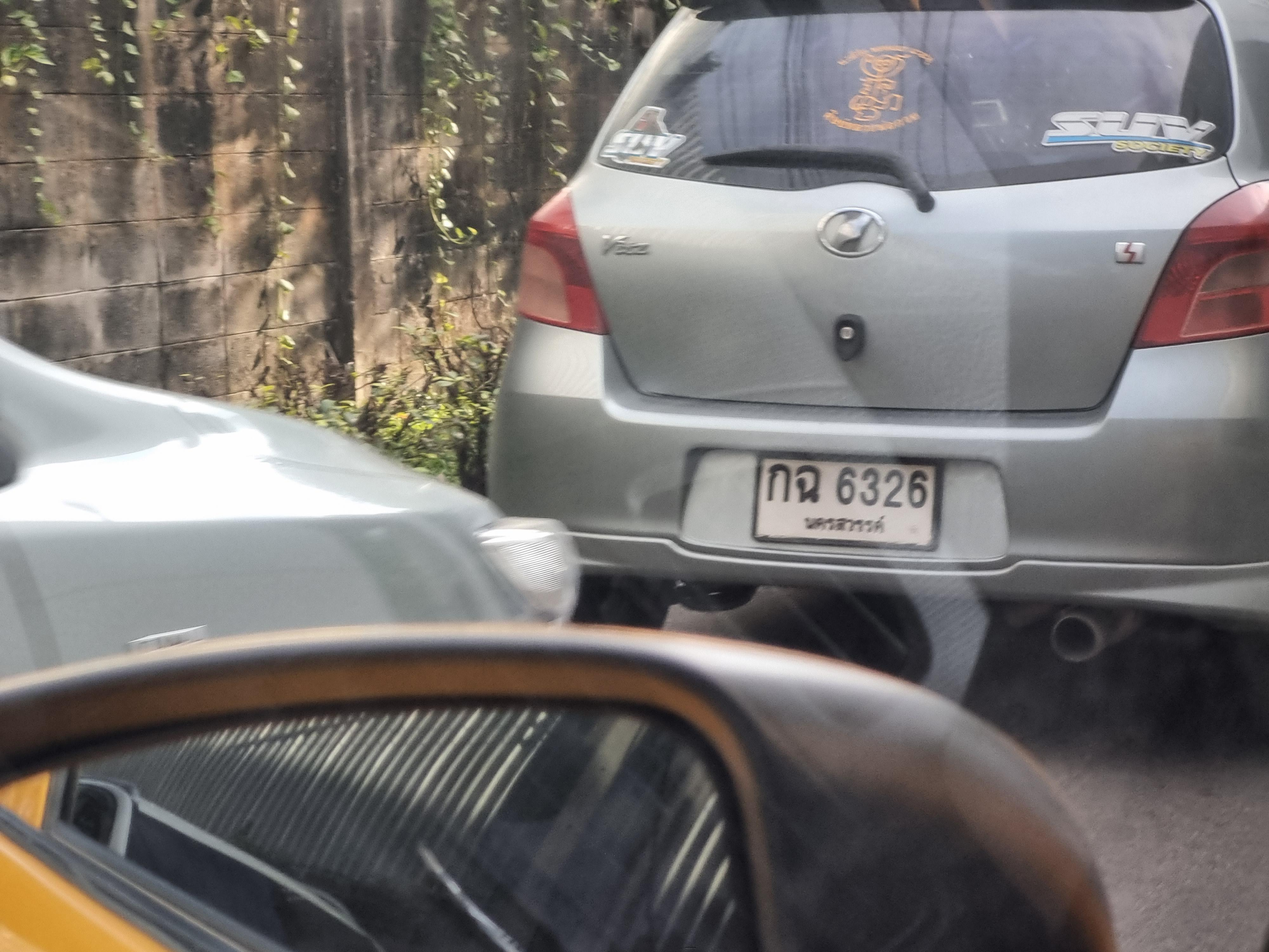license-plate: (754, 454, 946, 546)
